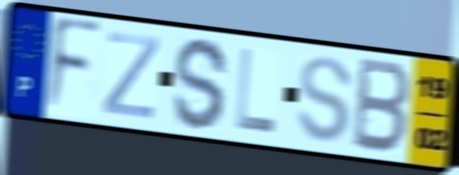B: (349, 54, 414, 158)
F: (43, 14, 105, 118)
L: (233, 45, 280, 137)
S: (171, 35, 231, 133), (295, 53, 356, 146)
Z: (100, 28, 163, 122)
